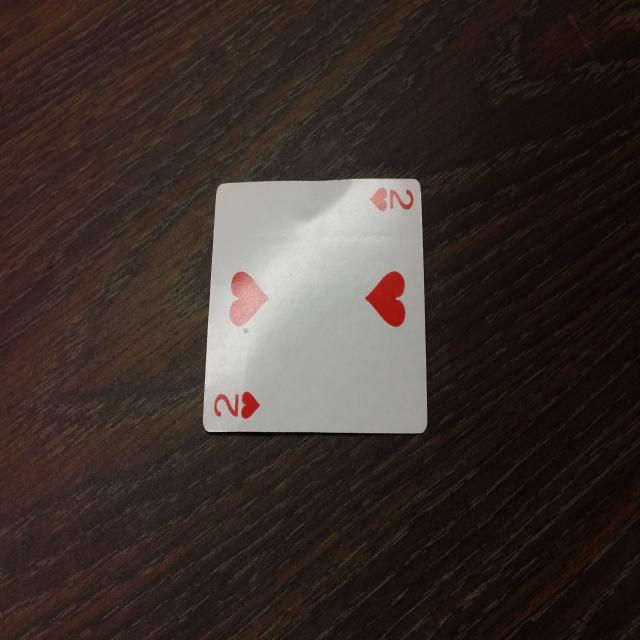2h: (207, 378, 263, 430), (362, 174, 417, 223)
